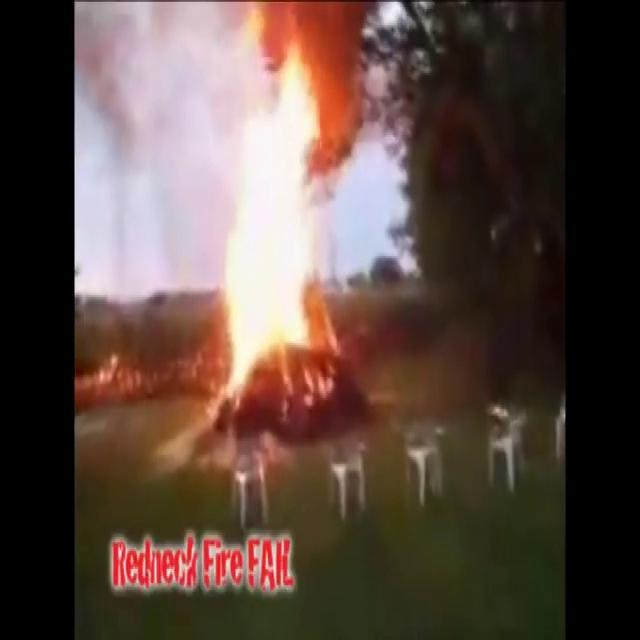Fire: (201, 7, 342, 404)
Smoke: (74, 2, 240, 281)
